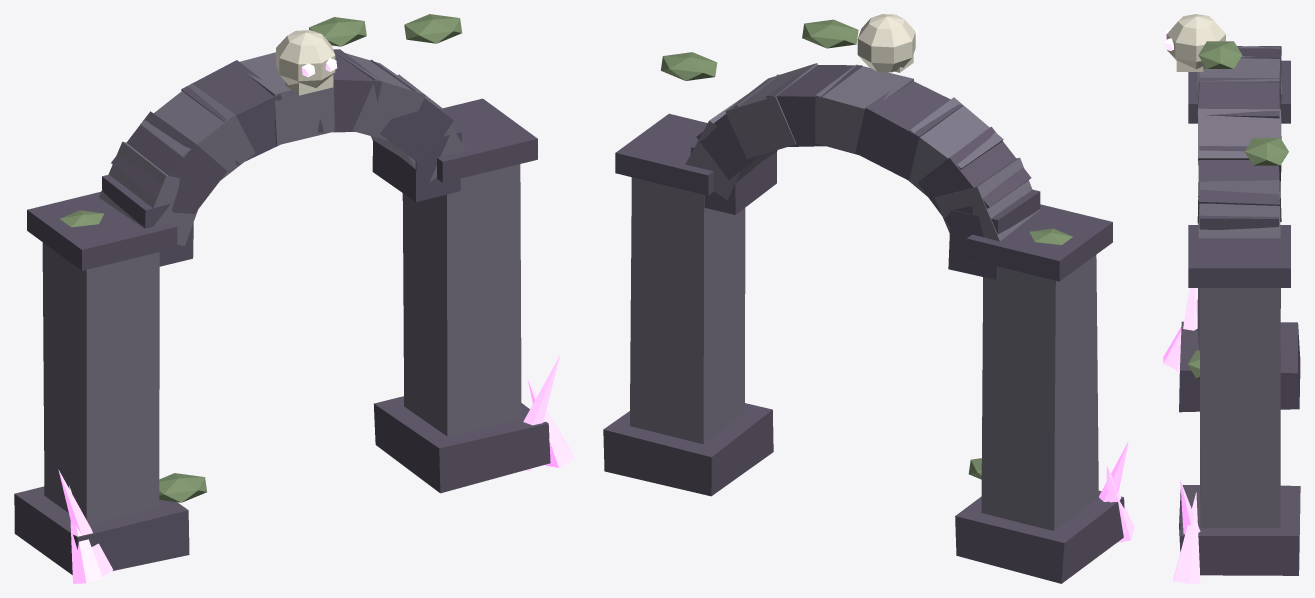
Rendered from dungeon_gate.glb.
The picture shows the model from 3 angles, left to right: view 1: azimuth 30°, elevation 25°; view 2: azimuth 150°, elevation 25°; view 3: azimuth 270°, elevation 25°; orthographic projection. The views are drawn at different scales.
Visible parts, largest first — view 1: dungeon_gate; view 2: dungeon_gate; view 3: dungeon_gate.
Boxes of the visible parts, <box> form: dungeon_gate: <box>14,14,574,583</box>; dungeon_gate: <box>603,14,1134,583</box>; dungeon_gate: <box>1163,14,1300,583</box>.
Size of the model in its own units: 10.18 by 9.32 by 2.54.
